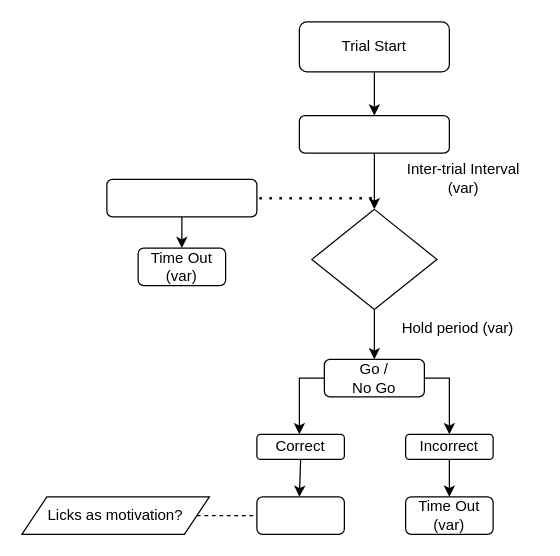
The diagram is 560 pixels wide and 556 high, and some of its shapes have lost their labels. Each missing label, with the box of its shape:
Cards Presentation: (311, 208, 437, 309)
Deal cards from Deck: (298, 114, 449, 153)
Premature Response: (106, 178, 257, 217)
Reward: (256, 496, 344, 534)
